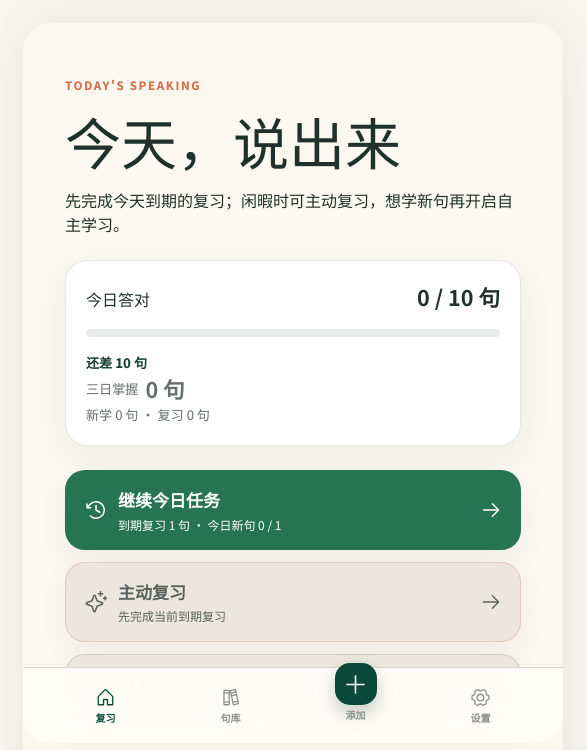
Scenario: PhraseBankApp › continues to new-phrase learning even when the background home refresh is still pending
This screenshot has width=587, height=750.
Step 1. Click the button "继续今日任务 到期复习 1 句 · 今日新句 0 / 1" → (169,500), box [65,470,521,550]
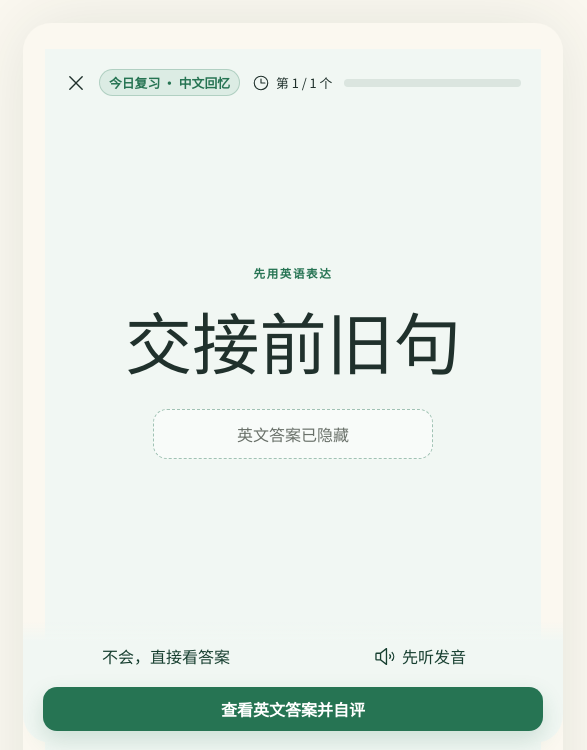
Check: the heading "交接前旧句" is shown, box [125,291,461,388]
Step 2. Click the button "查看英文答案并自评" → (293,709), box [43,687,543,731]
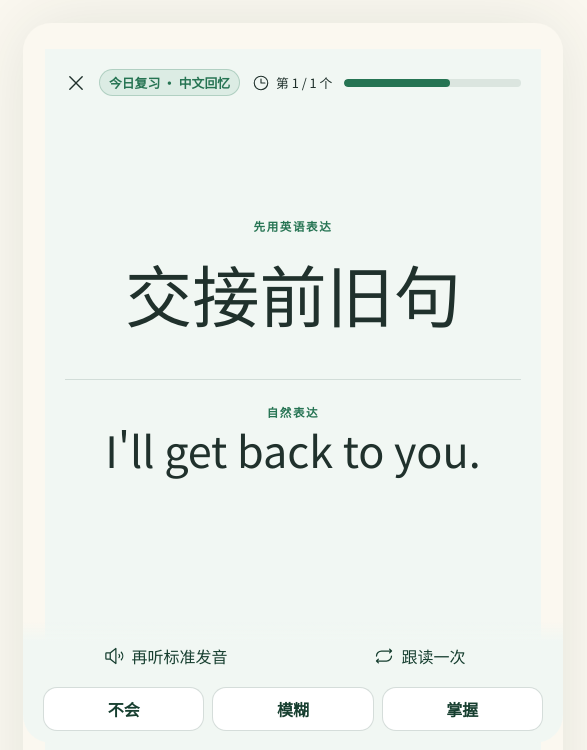
Step 3. Click the button "掌握" → (462,709), box [382,687,543,731]
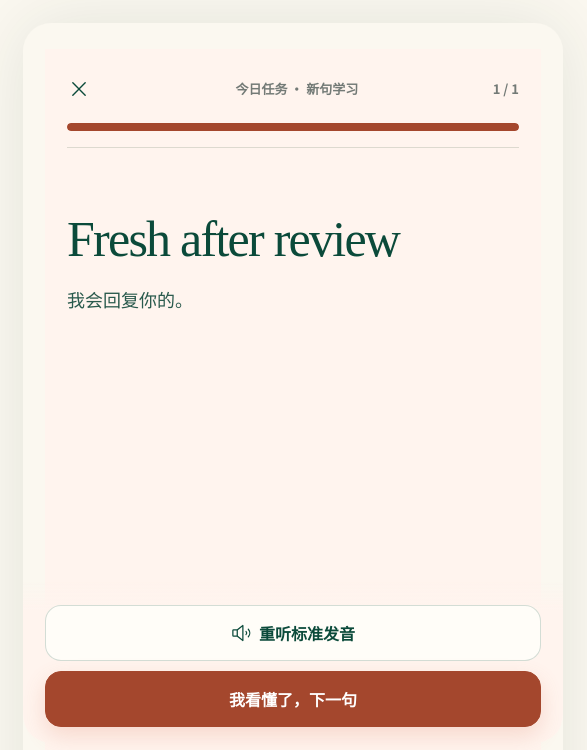
Check: the text "今日任务 · 新句学习" is shown, box [235,79,358,99]
Check: the heading "Fresh after review" is shown, box [67,211,399,267]
